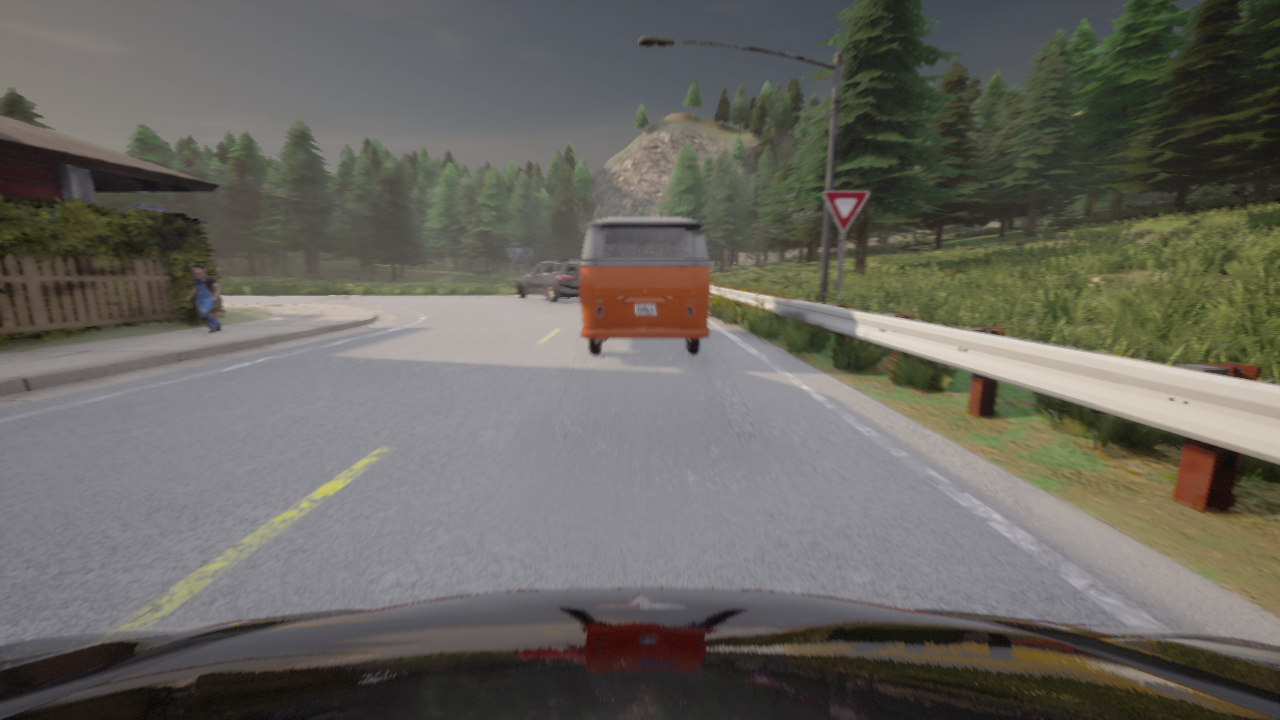cyclist: (0, 588, 1279, 719), (580, 217, 709, 354), (517, 259, 581, 302)
pedestrian: (187, 264, 222, 333)
